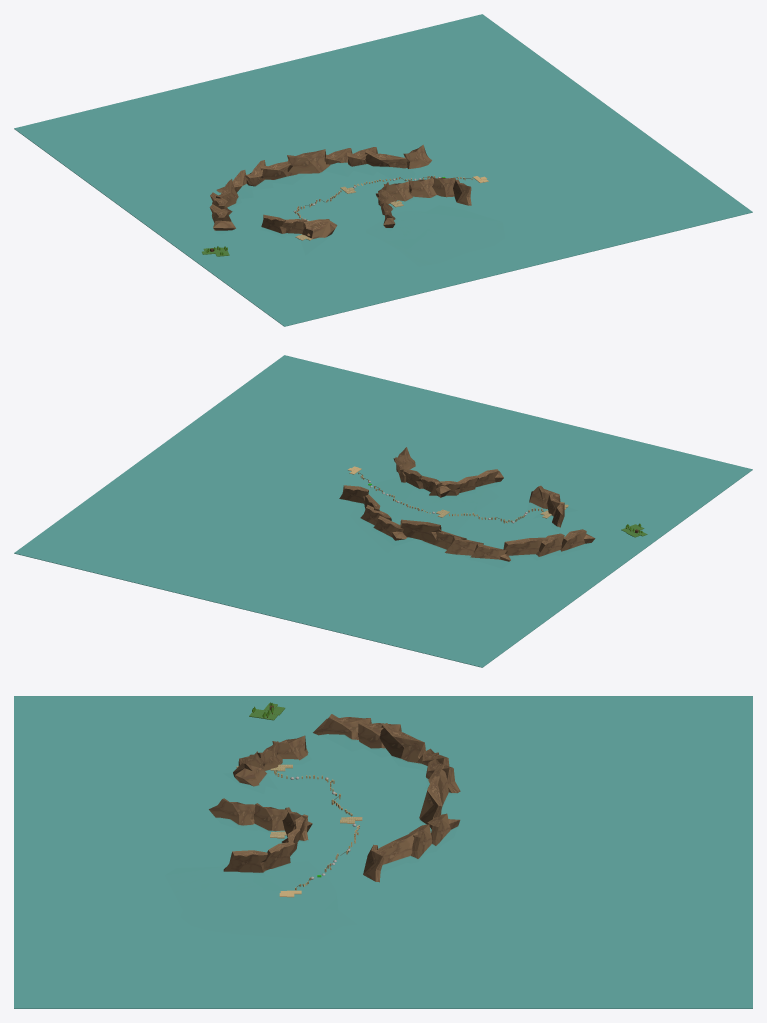
The model's file is world.glb.
The picture shows the model from 3 angles, top to bottom: view 1: azimuth 30°, elevation 25°; view 2: azimuth 150°, elevation 25°; view 3: azimuth 270°, elevation 25°; orthographic projection. The views are drawn at different scales.
Parts seen in each view (by area): view 1: Cube.048, Cube.005, Cube.030, Cube.029; view 2: Cube.048, Cube.005, Cube.030, Cube.023; view 3: Cube.048, Cube.005, Cube.023, Cube.022, Cube.038, Cube.003, Cube.030, Cube.039, Cube.029, Cube.021, Cube.076, Cube.028 (+2 smaller).
Boxes of the visible parts, x1,y1,x2,y2 form: Cube.048: (14,14,752,326); Cube.005: (261,214,337,238); Cube.030: (287,149,330,173); Cube.029: (365,149,407,168); Cube.048: (14,355,752,667); Cube.005: (529,485,564,527); Cube.030: (400,519,441,542); Cube.023: (503,537,548,555); Cube.048: (14,696,752,1008); Cube.005: (233,735,308,786); Cube.023: (380,723,426,763); Cube.022: (313,714,371,739); Cube.038: (209,798,255,825); Cube.003: (223,850,267,872); Cube.030: (419,776,442,824); Cube.039: (254,803,288,831); Cube.029: (378,831,417,864); Cube.021: (358,720,401,748); Cube.076: (258,842,294,872); Cube.028: (427,813,460,845).
Size of what is drawn, in the model's own units: 2000 by 281 by 2000.
18 materials, 14 textured.
